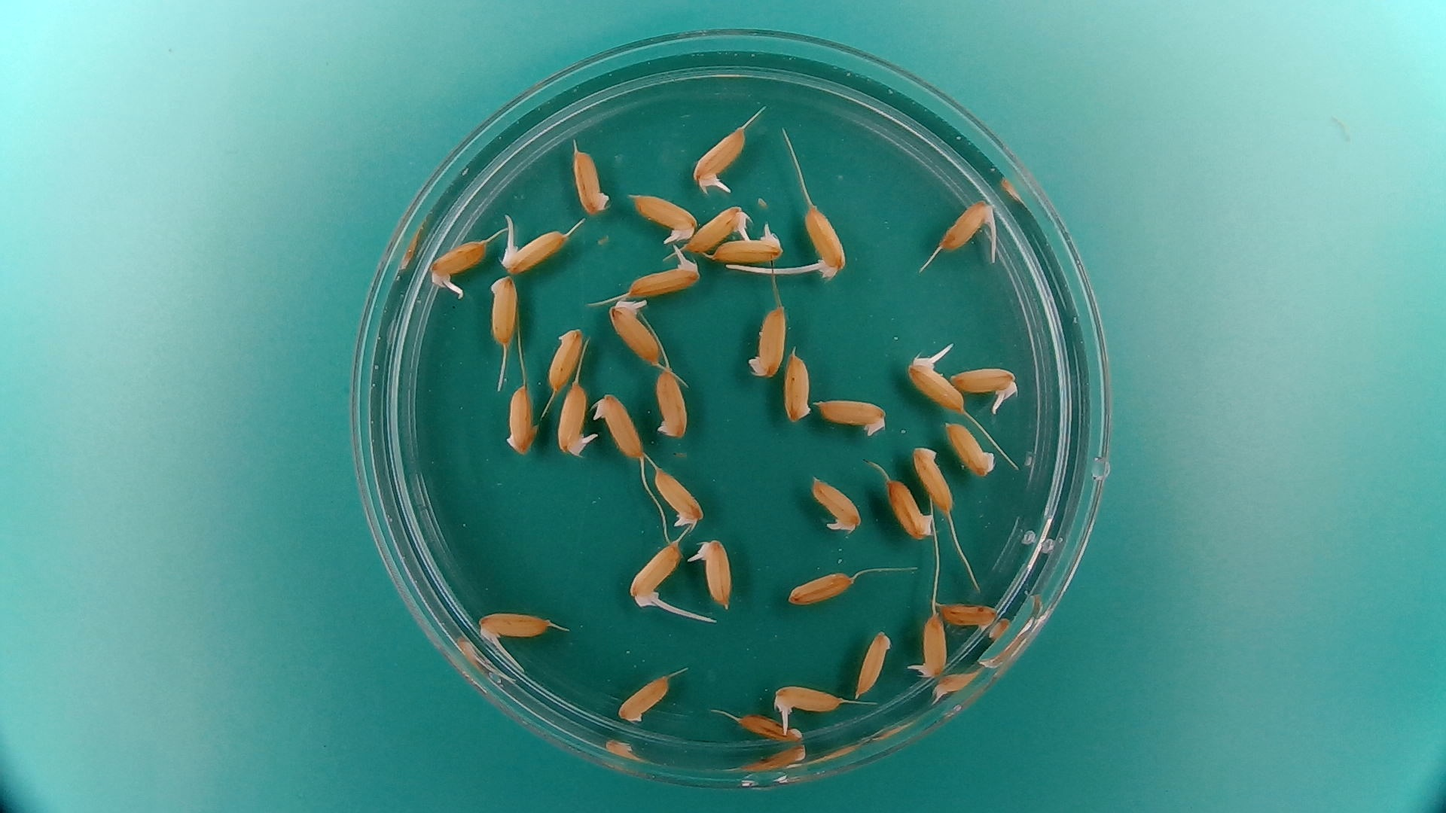no: (744, 300, 789, 382), (592, 391, 645, 460), (883, 473, 937, 540), (569, 139, 614, 217), (910, 442, 957, 516), (942, 419, 1000, 478), (813, 394, 889, 437), (615, 671, 672, 725), (545, 321, 586, 394), (854, 626, 895, 699), (652, 364, 691, 440), (785, 568, 856, 607), (502, 381, 538, 456), (782, 348, 816, 427), (486, 271, 520, 349), (733, 712, 805, 748), (938, 598, 1002, 631)
yes: (690, 119, 752, 196), (937, 196, 1002, 257), (606, 300, 665, 367), (626, 191, 700, 243), (905, 353, 967, 415), (624, 251, 704, 299), (628, 536, 684, 604), (651, 462, 706, 531), (682, 202, 752, 253), (496, 227, 569, 274), (947, 361, 1022, 406), (554, 377, 595, 459), (804, 206, 848, 279), (810, 477, 865, 534), (431, 236, 489, 288), (695, 539, 737, 607), (911, 609, 949, 681), (709, 230, 784, 266), (477, 611, 549, 644), (772, 687, 843, 720)
